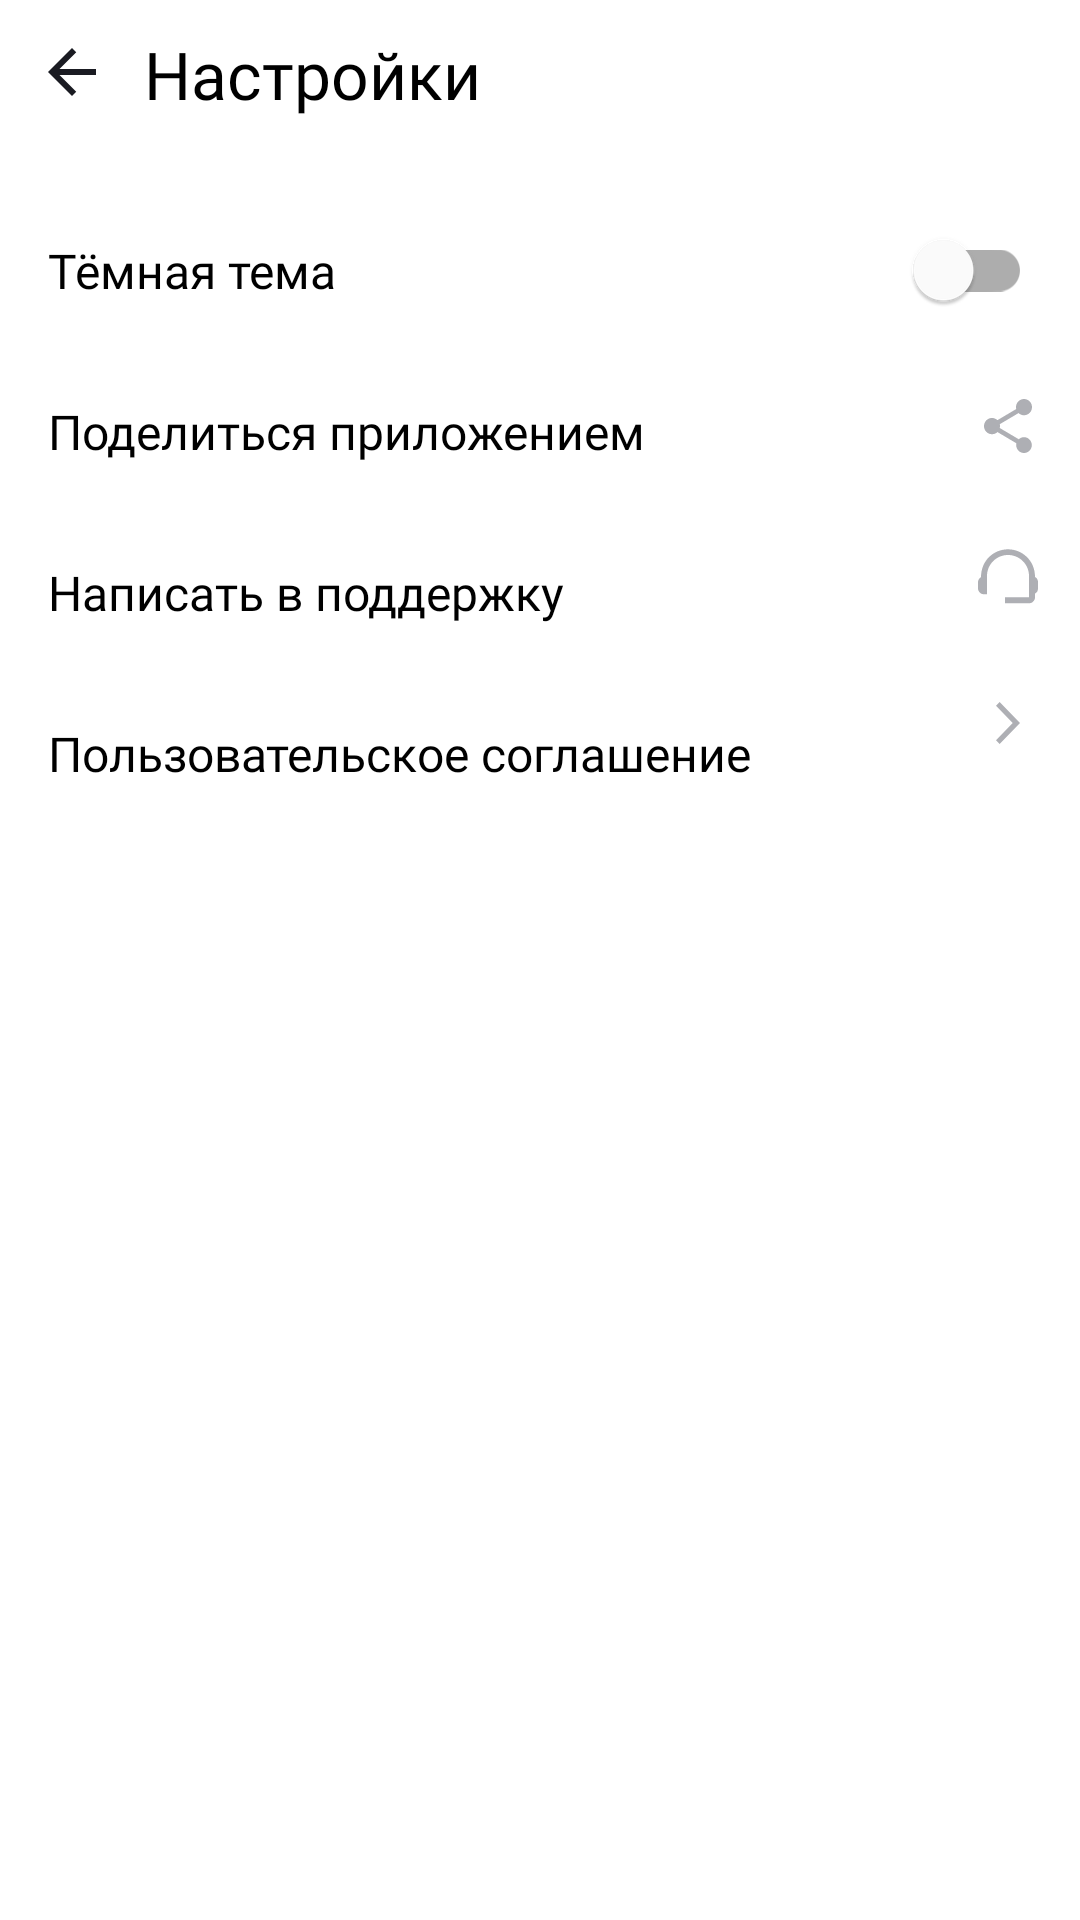

Screen size 1080 x 1920. Icon name, then its center in pixels as [x,y]:
arrow: [1008,723]
arrow back: [72,72]
share: [1008,426]
support: [1008,576]
